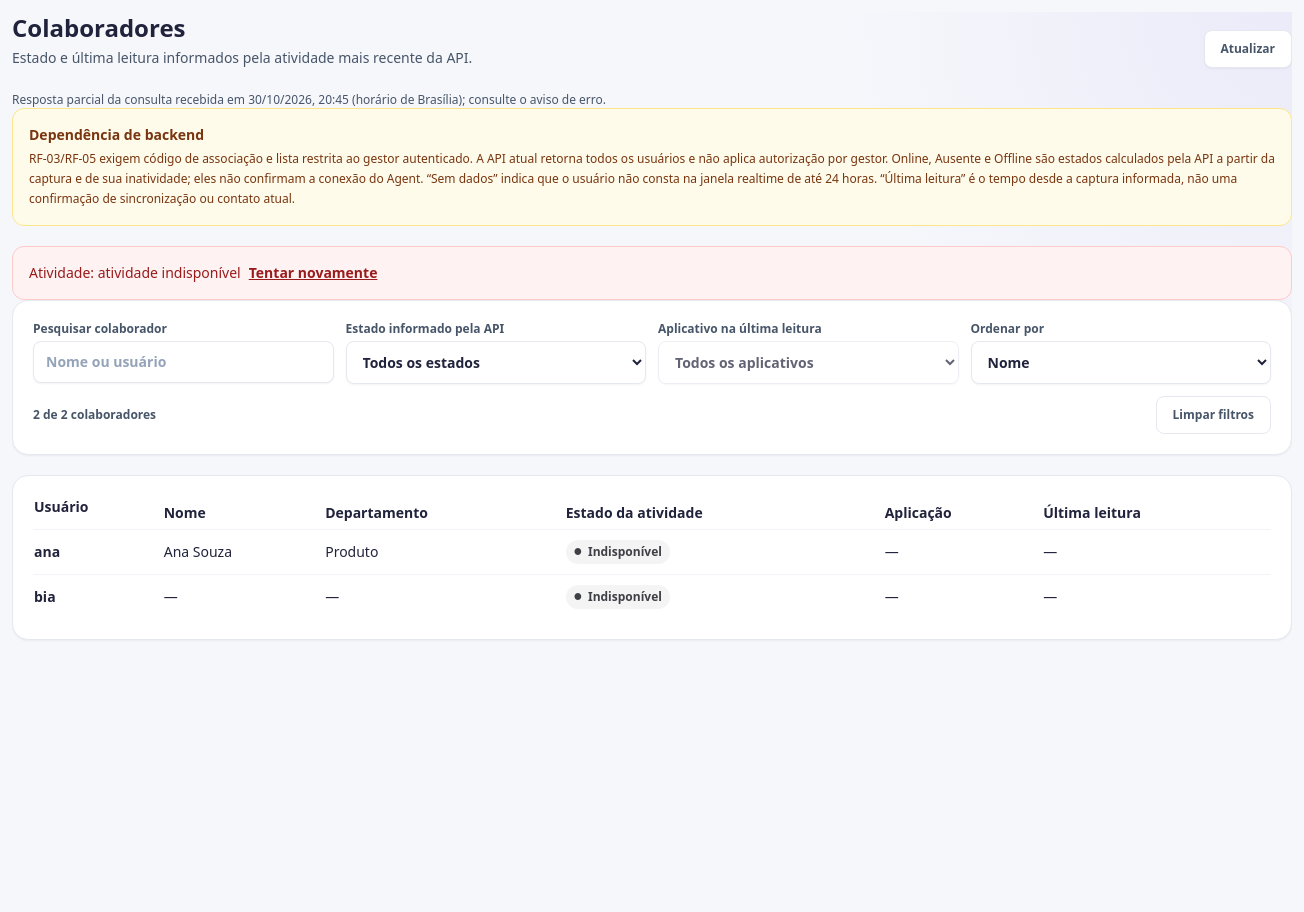
it: CollaboratorsPage › identifica resposta parcial e não inventa horário de atualização em uma falha total
expect the message named "Atualização da consulta" shows "Resposta parcial da consulta recebida": met, box [12,91,606,108]
expect the message "Atividade: atividade indisponível Tentar novamente" is shown: met, box [12,246,1292,300]
Click the button "Atualizar". click: {"x": 1248, "y": 49}
box: [1204,30,1292,68]
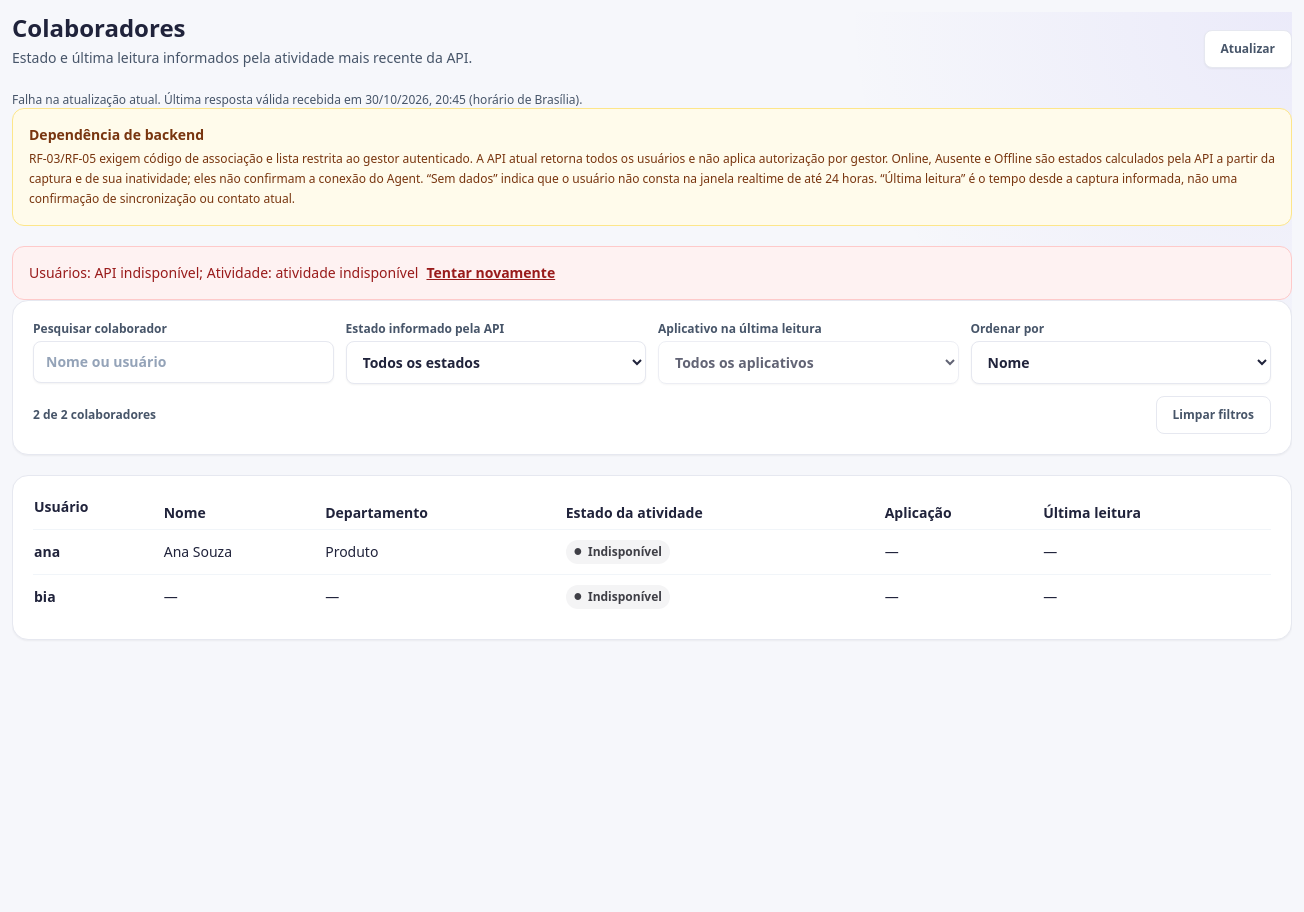
expect the message named "Atualização da consulta" shows "Falha na atualização atual. Última resposta válida recebida em": met, box [12,91,582,108]
